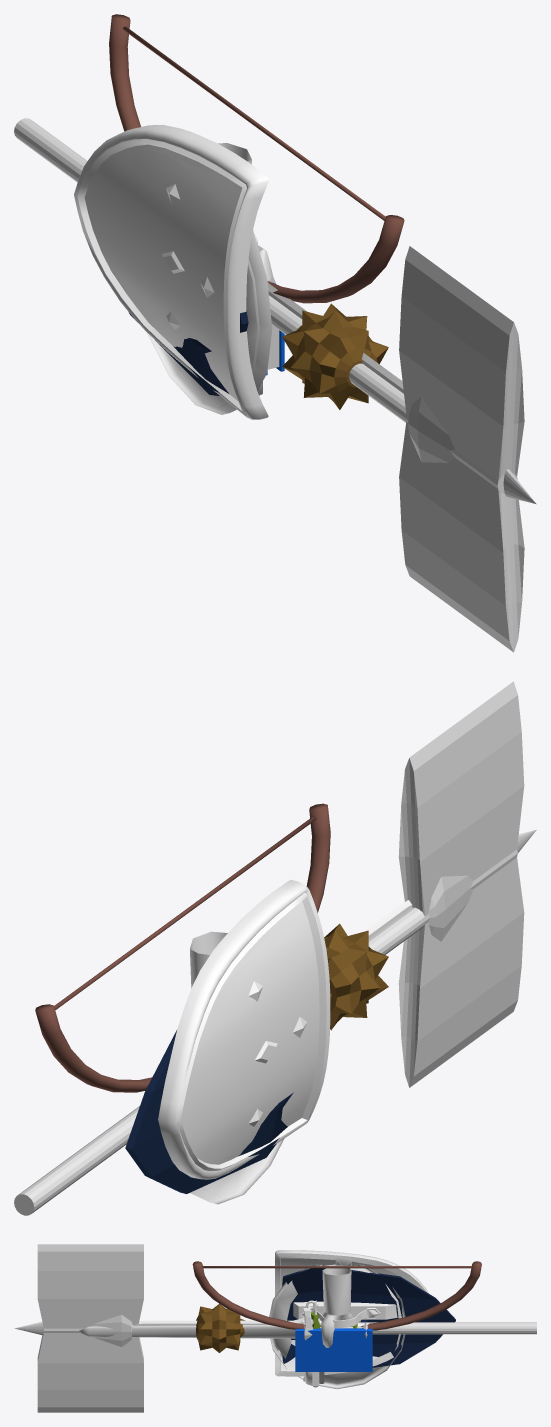
File: Items.glb
3 views of the same model, one above another, from view 1: azimuth 30°, elevation 25°; view 2: azimuth 150°, elevation 25°; view 3: azimuth 270°, elevation 25° (orthographic). The views are drawn at different scales.
Parts seen in each view (by area): view 1: Greateaxe, ShieldFancy, Bow, Mace, Shield, Spear, Kite_Shield, Sword; view 2: Greateaxe, ShieldFancy, Bow, Kite_Shield, Mace, Spear, Shield, Hand; view 3: Greateaxe, Kite_Shield, ShieldFancy, Bow, Book, Shield, CommonSword, Mace, Hand, Spear, Sword, Blaster.
Boxes of the visible parts, bbox=[...] form: Greateaxe: bbox=[14, 118, 524, 652]; ShieldFancy: bbox=[74, 124, 268, 419]; Bow: bbox=[109, 14, 404, 303]; Mace: bbox=[282, 303, 388, 409]; Shield: bbox=[147, 230, 272, 414]; Spear: bbox=[408, 397, 536, 504]; Kite_Shield: bbox=[128, 311, 248, 395]; Sword: bbox=[254, 235, 403, 393]; Greateaxe: bbox=[14, 681, 524, 1215]; ShieldFancy: bbox=[158, 879, 330, 1179]; Bow: bbox=[35, 803, 330, 1092]; Kite_Shield: bbox=[125, 1030, 293, 1193]; Mace: bbox=[324, 923, 388, 1030]; Spear: bbox=[15, 829, 536, 1213]; Shield: bbox=[190, 1138, 284, 1204]; Hand: bbox=[190, 931, 227, 988]; Greateaxe: bbox=[37, 1244, 536, 1412]; Kite_Shield: bbox=[282, 1265, 455, 1367]; ShieldFancy: bbox=[275, 1250, 428, 1376]; Bow: bbox=[192, 1261, 481, 1330]; Book: bbox=[295, 1328, 372, 1371]; Shield: bbox=[269, 1264, 405, 1389]; CommonSword: bbox=[77, 1308, 367, 1340]; Mace: bbox=[196, 1303, 245, 1352]; Hand: bbox=[321, 1265, 353, 1347]; Spear: bbox=[14, 1314, 132, 1346]; Sword: bbox=[133, 1300, 378, 1332]; Blaster: bbox=[303, 1372, 324, 1387].
Size of the model in its own units: 2.9 by 9.32 by 26.2.
